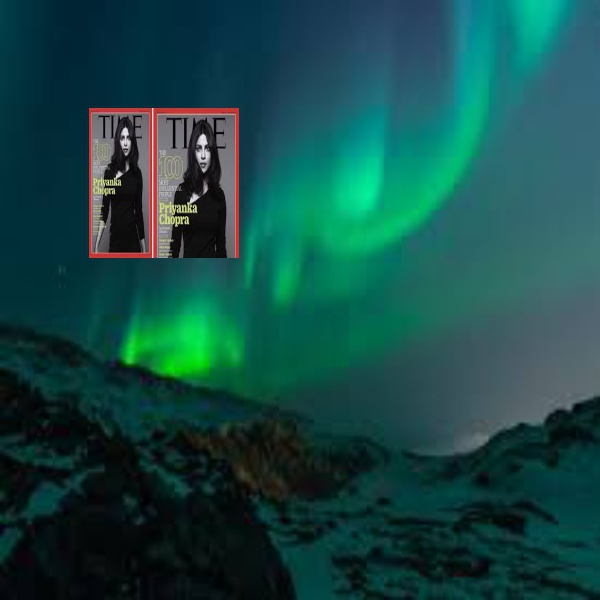time_cover: (83, 112, 221, 253), (83, 104, 153, 253)
